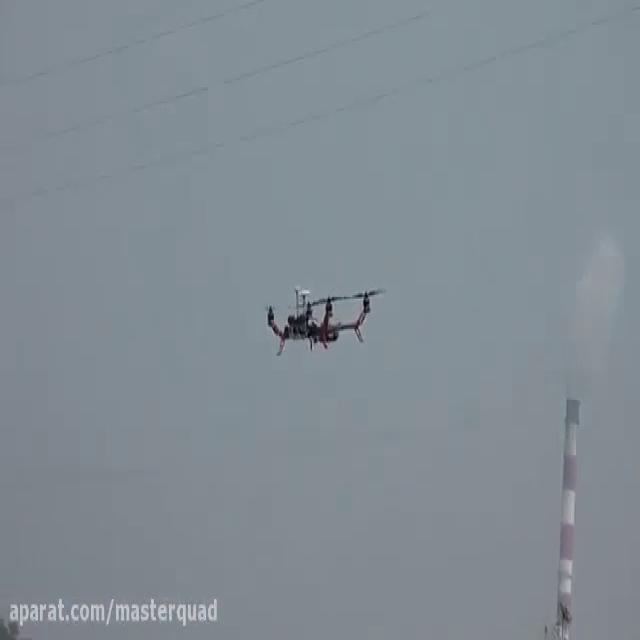drone: (256, 276, 388, 362)
